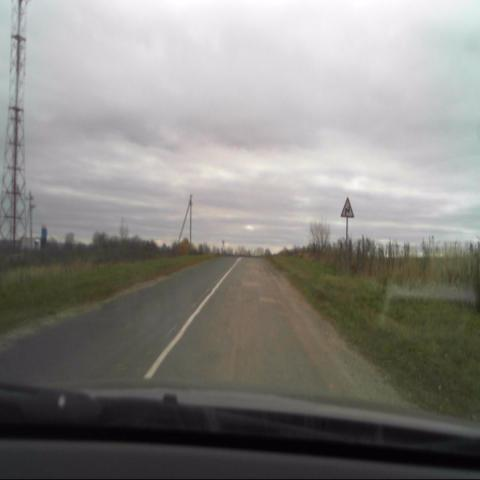1_12: (341, 195, 354, 219)
